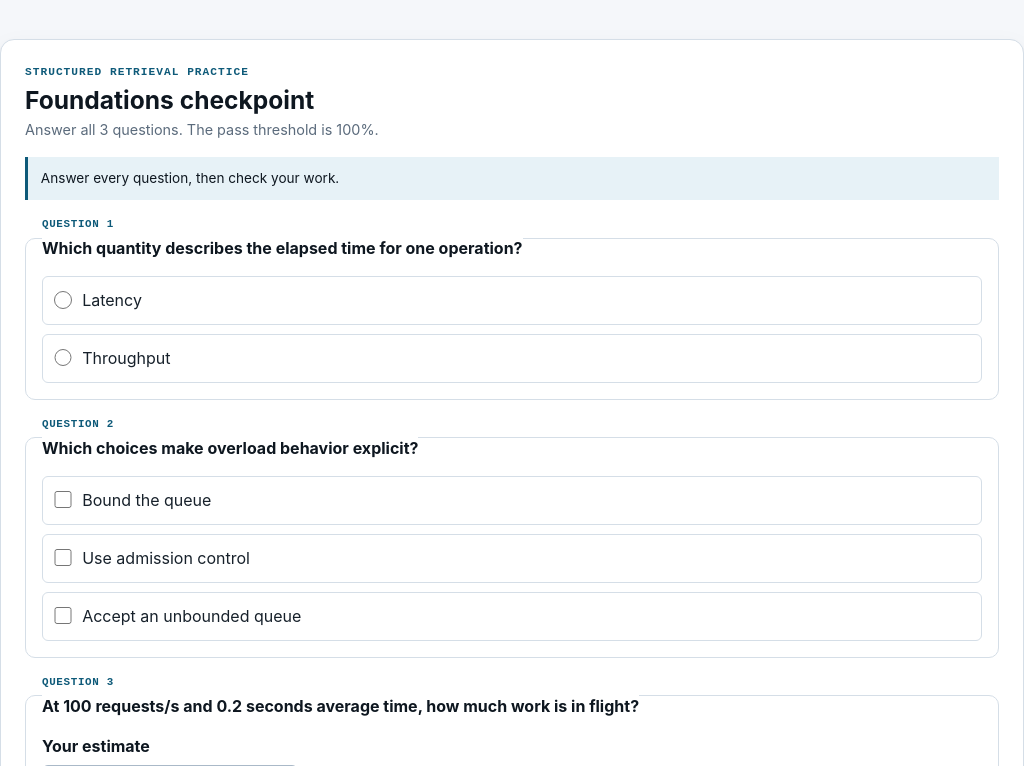
Scenario: QuizPanel › keeps evaluation feedback visible and announces storage failures
Click the radio button labelled "Latency" at [63, 300], box [54,291,72,308]
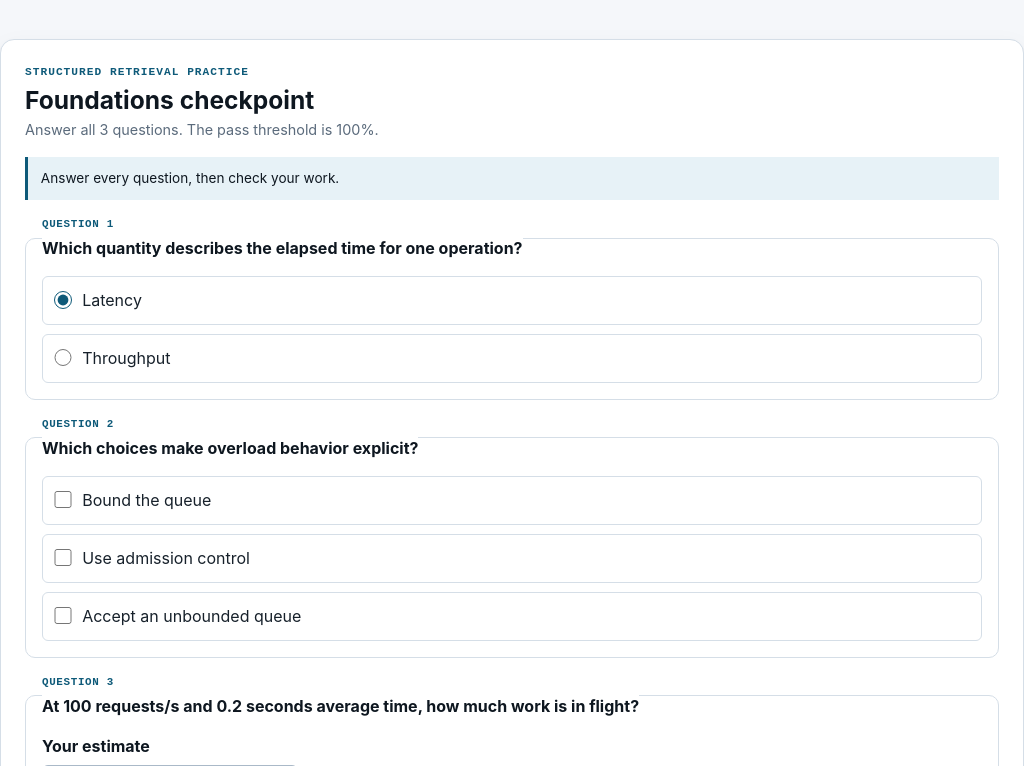
Click the checkbox labelled "Bound the queue" at [63, 500], box [54,491,72,508]
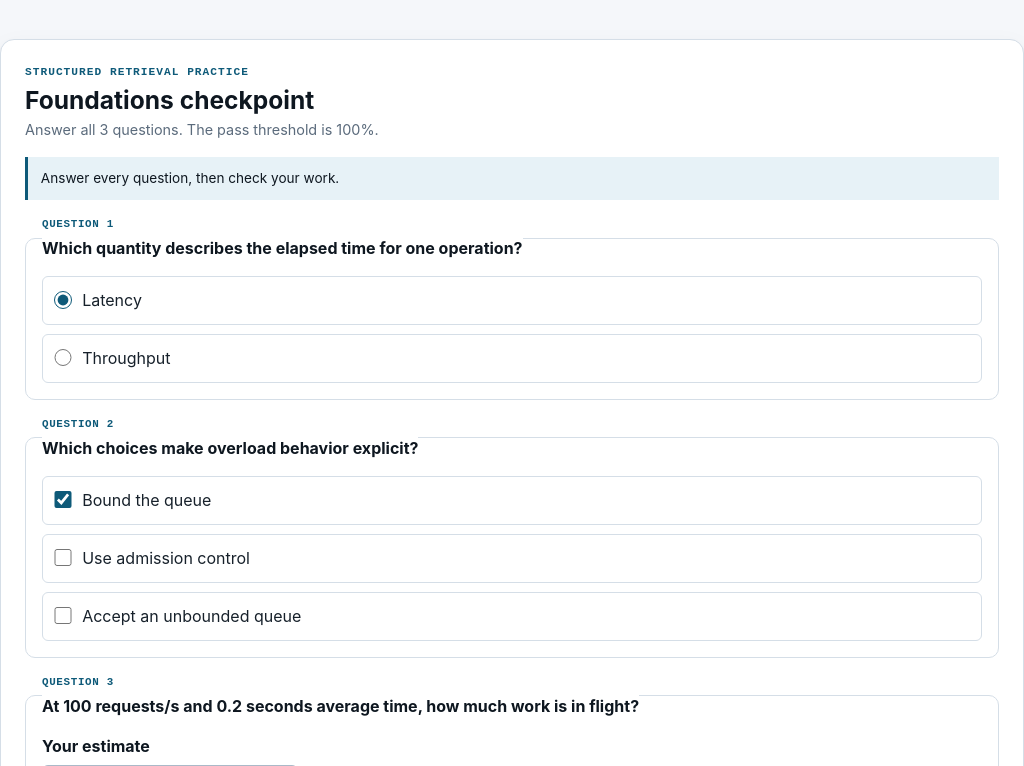
Click the checkbox labelled "Use admission control" at [63, 558], box [54,549,72,566]
(page scrolled)
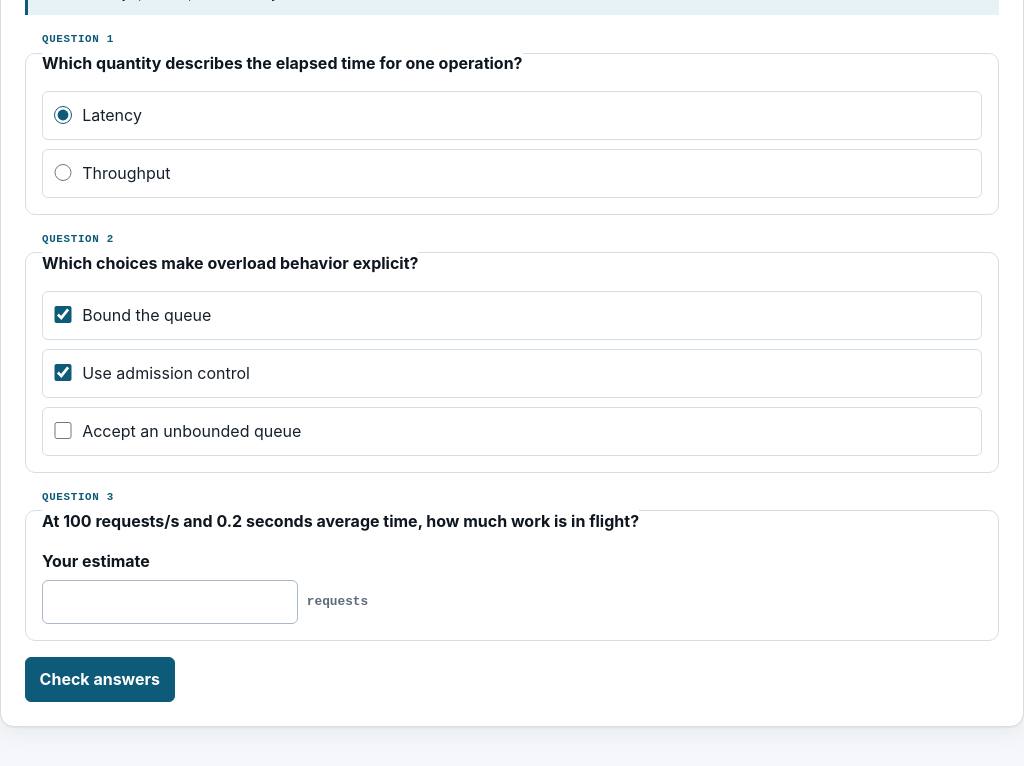
Type "20" into the number field at [170, 602], box [42,580,298,624]
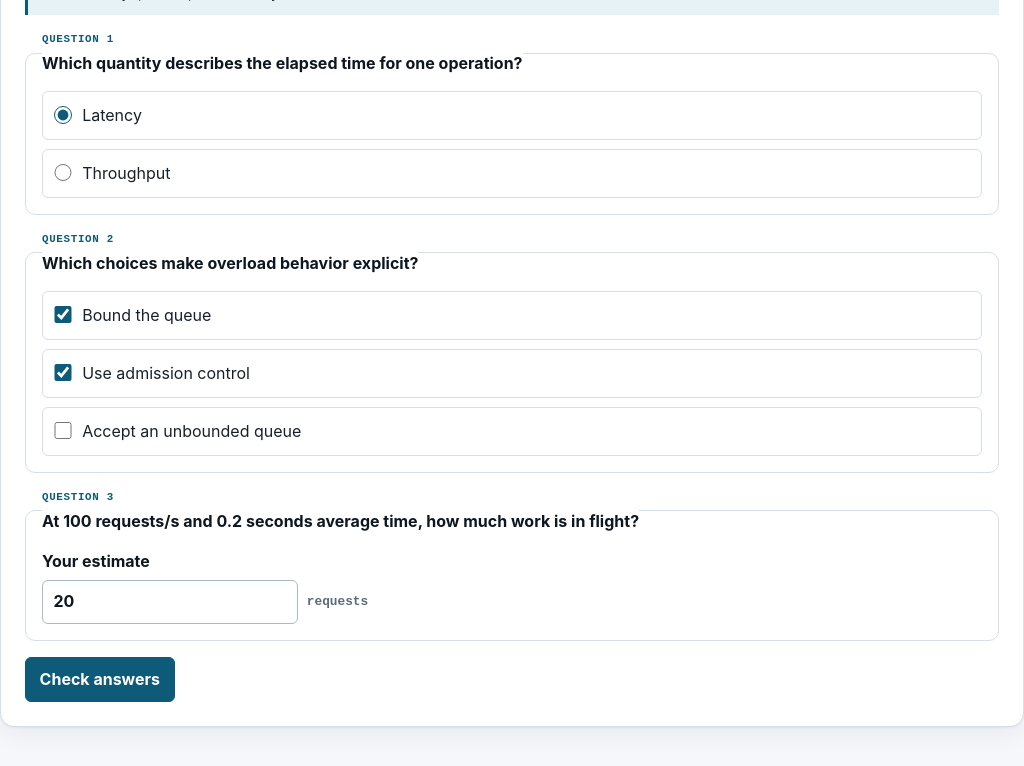
Submit the form named "Quiz answers"
(page scrolled)
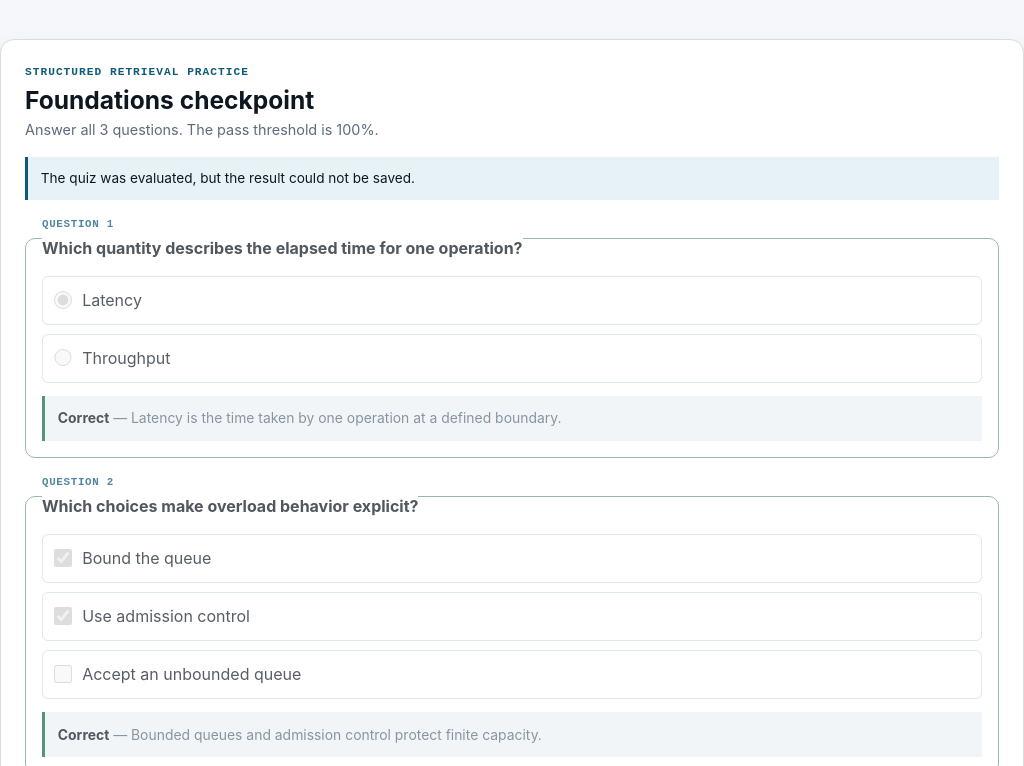
expect the message named "Quiz status" shows "could not be saved": met, box [41,170,415,186]
